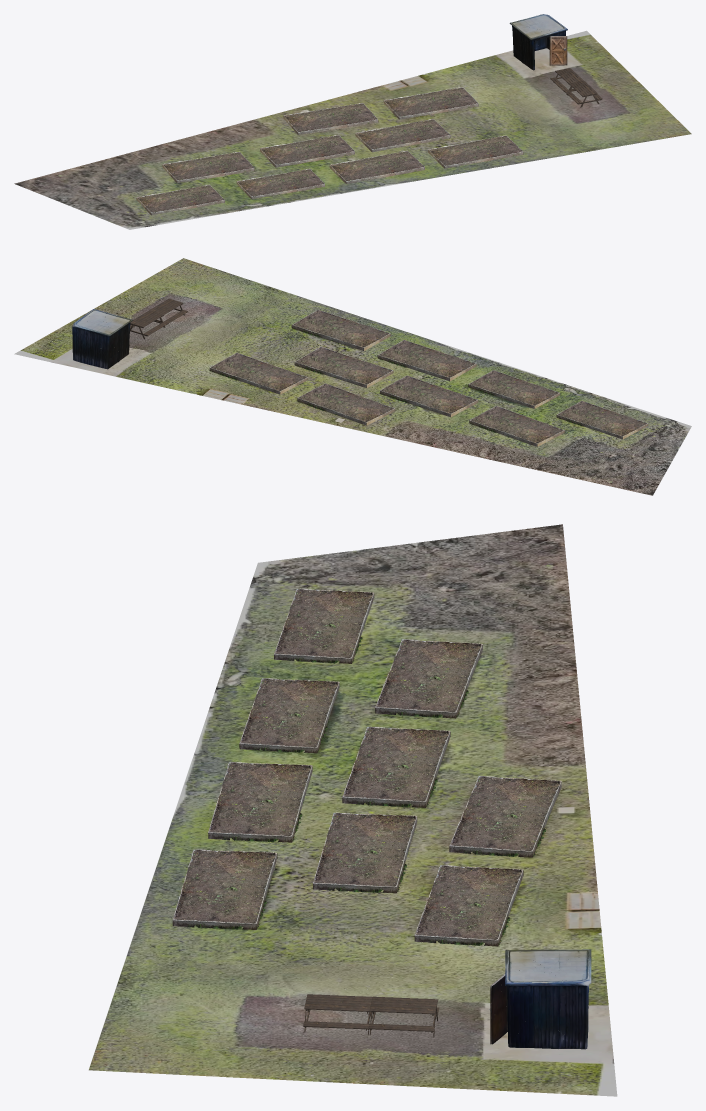
Rendered from potager.glb.
3 renders of one model, top to bottom at view 1: azimuth 30°, elevation 25°; view 2: azimuth 150°, elevation 25°; view 3: azimuth 270°, elevation 25°, orthographic. The views are drawn at different scales.
Visible parts, largest first — view 1: Plane.002, tripo_node_cea62d97-4aee-4a2e-b5df-1a801f1150cf, Mesh_0.003, Mesh_0.008, Mesh_0.001, Mesh_0.007, GardenBox_1, Mesh_0.002, Mesh_0.006, Mesh_0.005, Mesh_0.004, Sphere_0; view 2: Plane.002, tripo_node_cea62d97-4aee-4a2e-b5df-1a801f1150cf, Mesh_0.001, Mesh_0.003, Mesh_0.002, GardenBox_1, Mesh_0.007, Mesh_0.008, Mesh_0.006, Mesh_0.004, Mesh_0.005, Sphere_0; view 3: Plane.002, tripo_node_cea62d97-4aee-4a2e-b5df-1a801f1150cf, Mesh_0.008, GardenBox_1, Mesh_0.007, Mesh_0.003, Mesh_0.001, Mesh_0.002, Mesh_0.006, Mesh_0.005, Mesh_0.004, Sphere_0.
Part boxes in pixels (x1,y1,x2,y2): Plane.002: [14, 30, 691, 229]; tripo_node_cea62d97-4aee-4a2e-b5df-1a801f1150cf: [509, 14, 567, 70]; Mesh_0.003: [329, 150, 424, 183]; Mesh_0.008: [283, 103, 378, 134]; Mesh_0.001: [428, 135, 523, 168]; Mesh_0.007: [260, 135, 354, 167]; GardenBox_1: [383, 87, 478, 119]; Mesh_0.002: [355, 119, 450, 152]; Mesh_0.006: [162, 151, 254, 183]; Mesh_0.005: [136, 184, 224, 215]; Mesh_0.004: [236, 168, 324, 199]; Sphere_0: [550, 68, 602, 107]; Plane.002: [14, 258, 691, 495]; tripo_node_cea62d97-4aee-4a2e-b5df-1a801f1150cf: [72, 309, 132, 369]; Mesh_0.001: [291, 309, 390, 350]; Mesh_0.003: [377, 340, 476, 381]; Mesh_0.002: [294, 347, 393, 387]; GardenBox_1: [209, 352, 307, 394]; Mesh_0.007: [380, 375, 478, 417]; Mesh_0.008: [297, 383, 395, 425]; Mesh_0.006: [469, 406, 564, 446]; Mesh_0.004: [468, 370, 560, 408]; Mesh_0.005: [556, 400, 648, 439]; Sphere_0: [130, 298, 187, 339]; Plane.002: [89, 524, 617, 1096]; tripo_node_cea62d97-4aee-4a2e-b5df-1a801f1150cf: [489, 949, 591, 1049]; Mesh_0.008: [449, 776, 561, 857]; GardenBox_1: [414, 865, 523, 946]; Mesh_0.007: [342, 726, 450, 807]; Mesh_0.003: [208, 762, 312, 842]; Mesh_0.001: [172, 849, 277, 929]; Mesh_0.002: [312, 812, 417, 893]; Mesh_0.006: [375, 639, 482, 718]; Mesh_0.005: [274, 588, 374, 663]; Mesh_0.004: [239, 678, 339, 753]; Sphere_0: [303, 988, 439, 1037].
Size of what is drawn, in the model's own units: 70.86 by 4.26 by 27.67.
5 materials, 4 textured.
